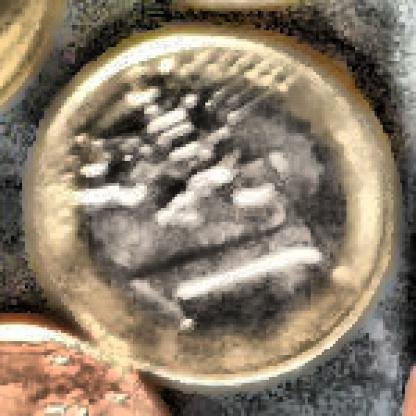coin: (21, 29, 401, 395)
